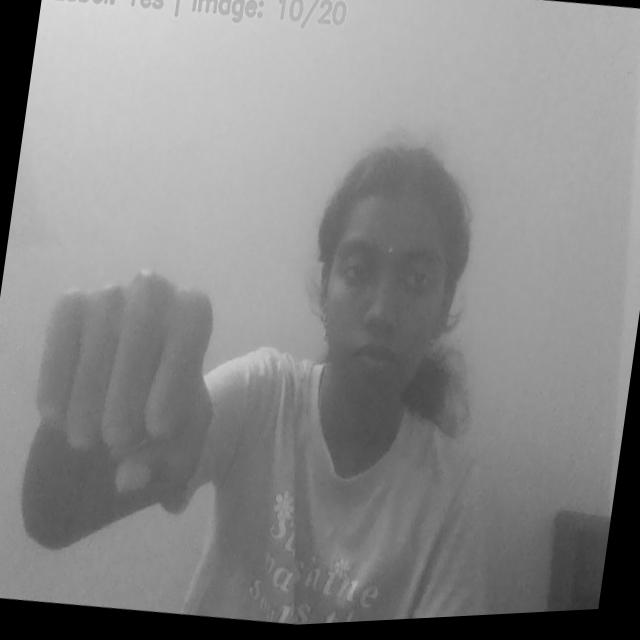Yes: (15, 256, 236, 515)
